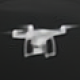plane: (6, 21, 79, 59)
